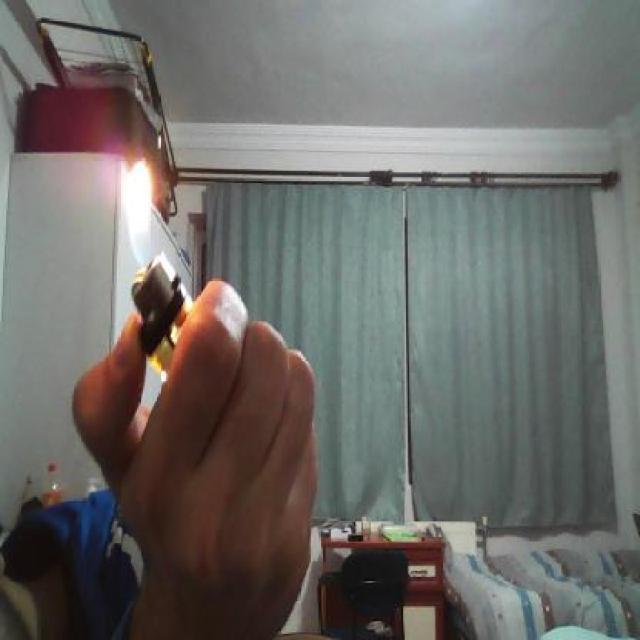Fire: (107, 139, 164, 272)
